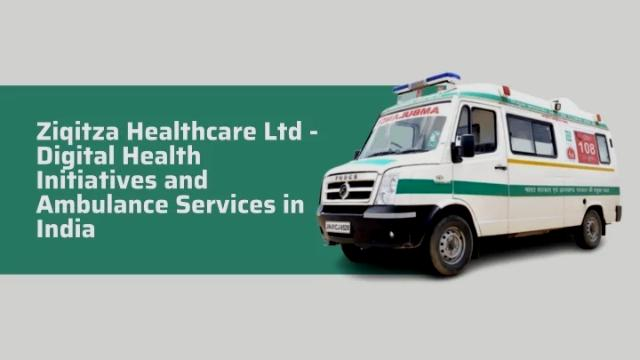ambulance: (308, 68, 640, 275)
